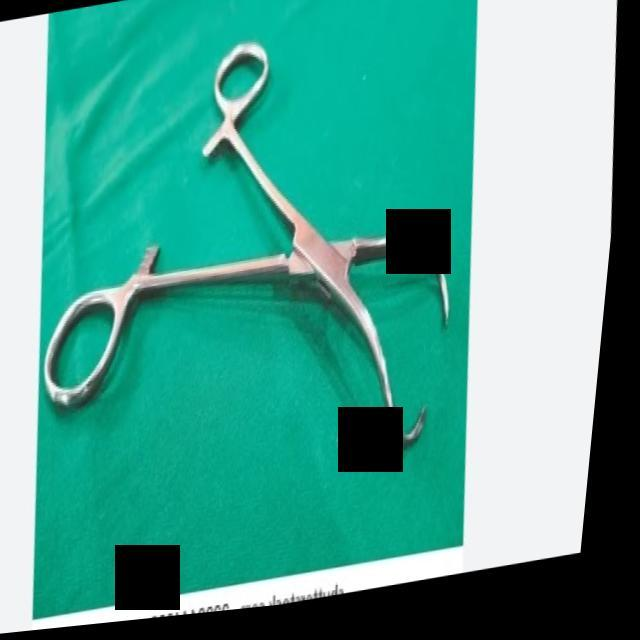Backhaus Towel Clamp: (14, 0, 494, 526)
